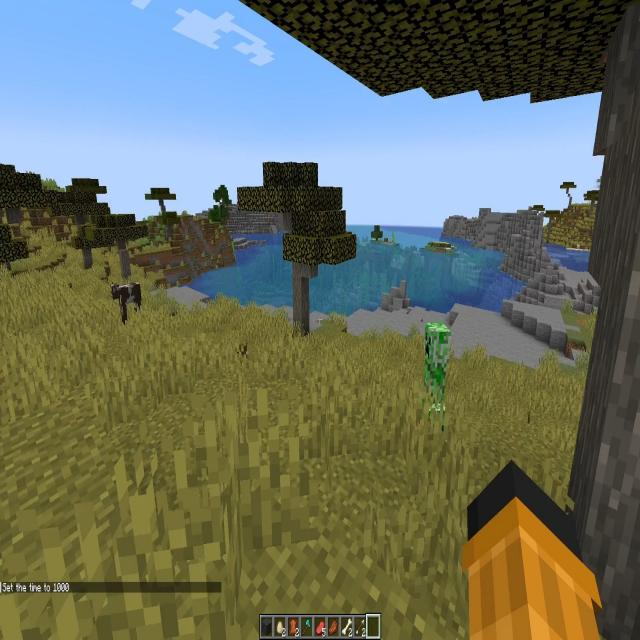Cow: (114, 284, 143, 320)
Creeper: (424, 326, 446, 415)
